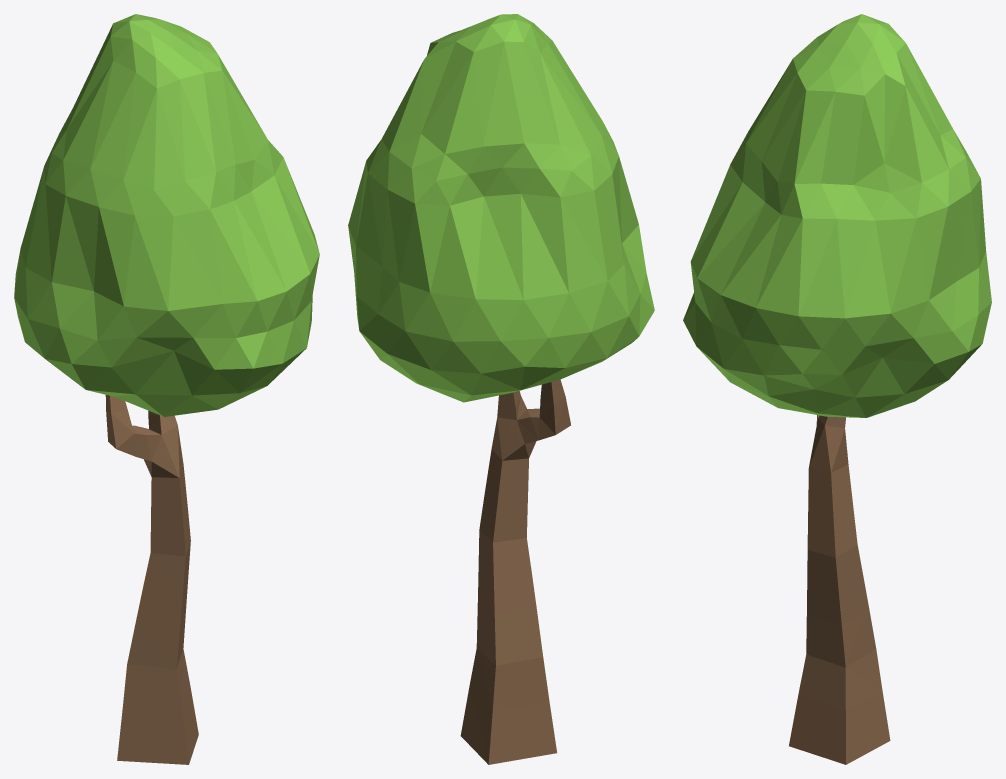
File: tree02.fbx
The picture shows the model from 3 angles, left to right: view 1: azimuth 30°, elevation 25°; view 2: azimuth 150°, elevation 25°; view 3: azimuth 270°, elevation 25°; orthographic projection. The views are drawn at different scales.
Visible parts, largest first — view 1: tree02_LOD0; view 2: tree02_LOD0; view 3: tree02_LOD0.
Part boxes in pixels (x1,y1,x2,y2): tree02_LOD0: [14, 14, 319, 764]; tree02_LOD0: [348, 14, 654, 764]; tree02_LOD0: [683, 14, 991, 764].
Size of what is drawn, in the model's own units: 190 by 498 by 193.
